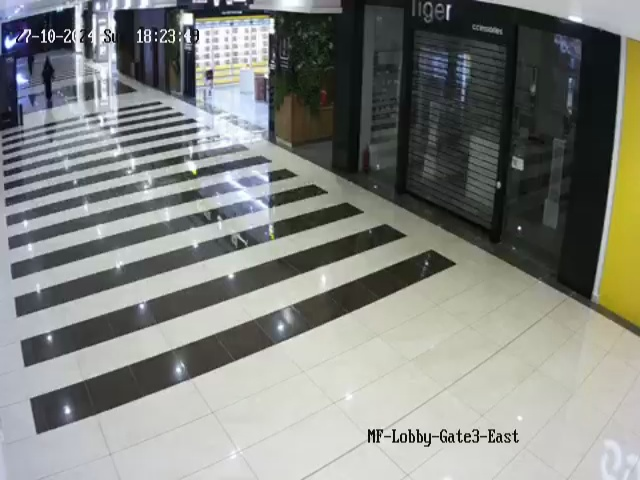female: (41, 56, 56, 100)
